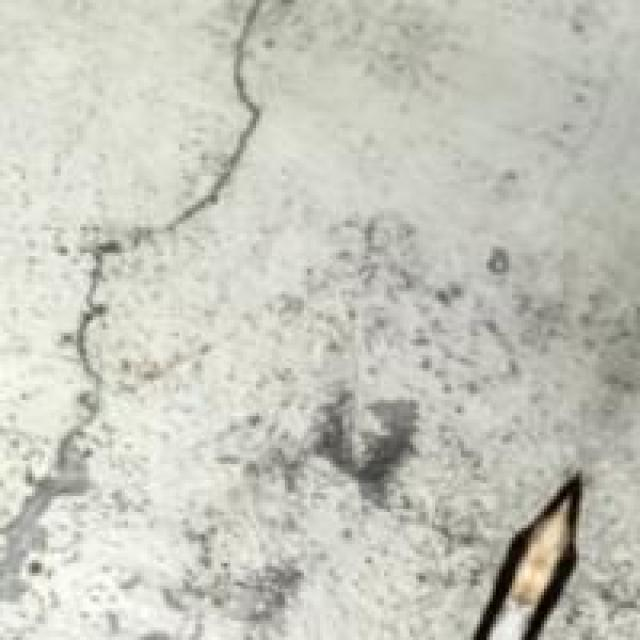crack: (16, 6, 285, 429)
